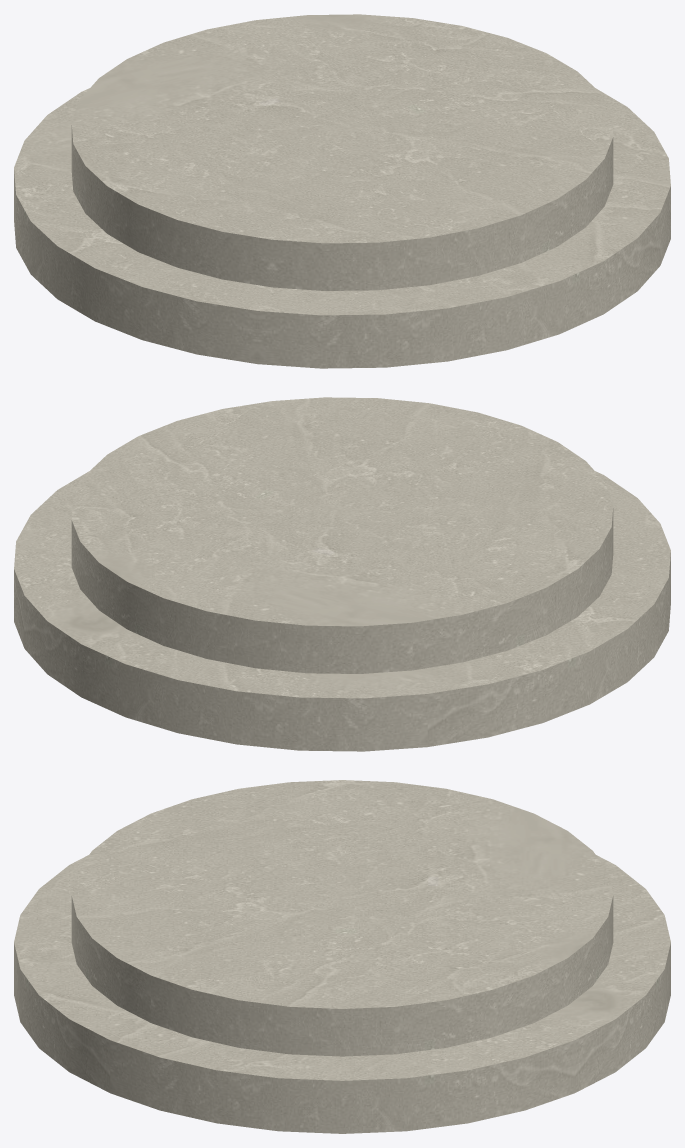
File: 1f8f9bcc-ec0d-4bff-9b7b-863ec4beb008.glb
The picture shows the model from 3 angles, top to bottom: view 1: azimuth 30°, elevation 25°; view 2: azimuth 150°, elevation 25°; view 3: azimuth 270°, elevation 25°; orthographic projection.
Visible parts, largest first — view 1: AlabasterPlatform.001; view 2: AlabasterPlatform.001; view 3: AlabasterPlatform.001.
Part boxes in pixels (x1,y1,x2,y2): AlabasterPlatform.001: (14, 14, 670, 368); AlabasterPlatform.001: (14, 397, 670, 751); AlabasterPlatform.001: (14, 780, 670, 1133).
Size of what is drawn, in the model's own units: 2.87 by 0.4853 by 2.87.
Materials: 1 (1 with a texture image).
